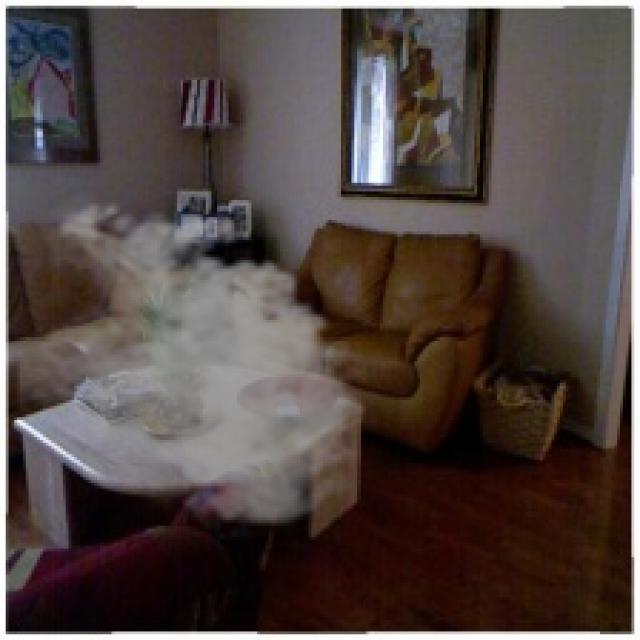Smoke: (14, 192, 377, 534)
